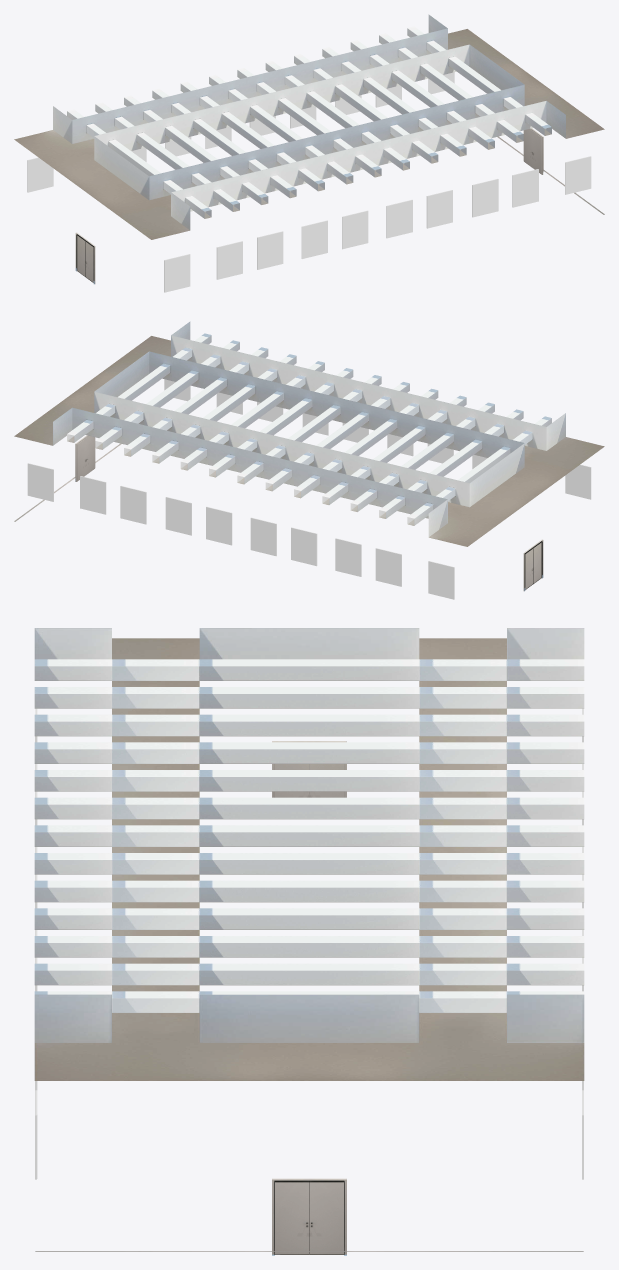
File: cube_mid.glb
The picture shows the model from 3 angles, top to bottom: view 1: azimuth 30°, elevation 25°; view 2: azimuth 150°, elevation 25°; view 3: azimuth 270°, elevation 25°; orthographic projection. The views are drawn at different scales.
Parts seen in each view (by area): view 1: Roof, beams.001, beams, placeholder.005, placeholder.003, placeholder.004, placeholder.007, placeholder.008, placeholder.001, placeholder.002, placeholder.006, placeholder.009 (+4 smaller); view 2: Roof, beams.001, beams, placeholder.014, placeholder.011, placeholder.012, placeholder.013, placeholder.015, placeholder.018, placeholder.016, placeholder.017, placeholder.019 (+4 smaller); view 3: beams.001, Roof, beams, Doors, Doors.001.
Boxes of the visible parts, x1,y1,x2,y2 form: Roof: (14, 14, 604, 239); beams.001: (67, 68, 381, 218); beams: (265, 26, 551, 170); placeholder.005: (386, 199, 412, 238); placeholder.003: (216, 241, 242, 279); placeholder.004: (257, 231, 283, 269); placeholder.007: (472, 179, 498, 217); placeholder.008: (512, 169, 538, 207); placeholder.001: (301, 220, 327, 258); placeholder.002: (342, 210, 368, 249); placeholder.006: (426, 190, 452, 228); placeholder.009: (164, 254, 190, 292); Roof: (14, 321, 604, 546); beams.001: (237, 375, 551, 525); beams: (67, 333, 353, 477); placeholder.014: (335, 538, 361, 576); placeholder.011: (291, 527, 317, 566); placeholder.012: (250, 517, 276, 556); placeholder.013: (375, 548, 401, 586); placeholder.015: (206, 506, 232, 545); placeholder.018: (80, 476, 106, 514); placeholder.016: (165, 497, 191, 535); placeholder.017: (120, 486, 146, 524); placeholder.019: (428, 561, 454, 599); beams.001: (34, 659, 584, 846); Roof: (34, 628, 584, 1080); beams: (34, 853, 584, 1012); Doors: (272, 1178, 346, 1255); Doors.001: (272, 741, 346, 797).
Size of what is drawn, in the model's own units: 182 by 43.08 by 95.42.
Materials: 6 (5 with a texture image).
